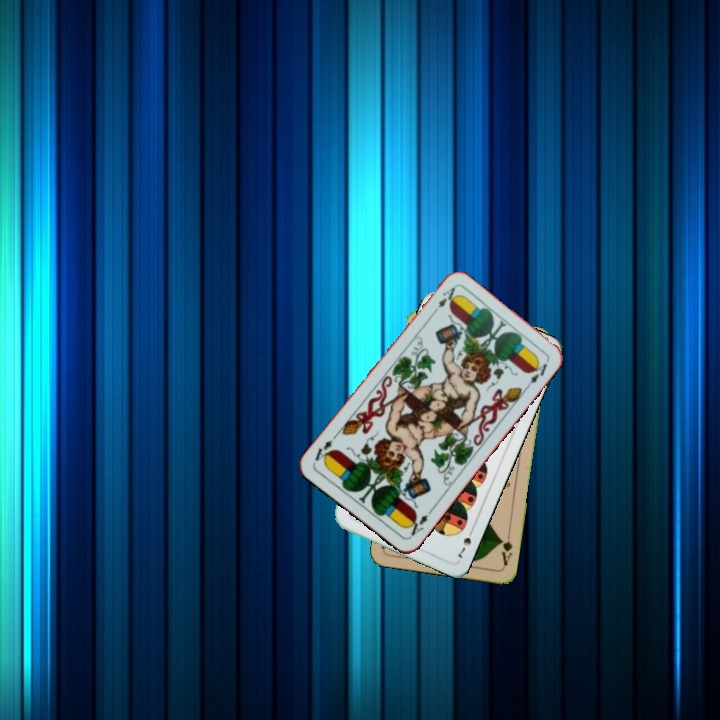EA: (404, 505, 435, 540), (428, 283, 458, 318)
GA: (497, 528, 515, 568)
S7: (454, 524, 477, 561)
